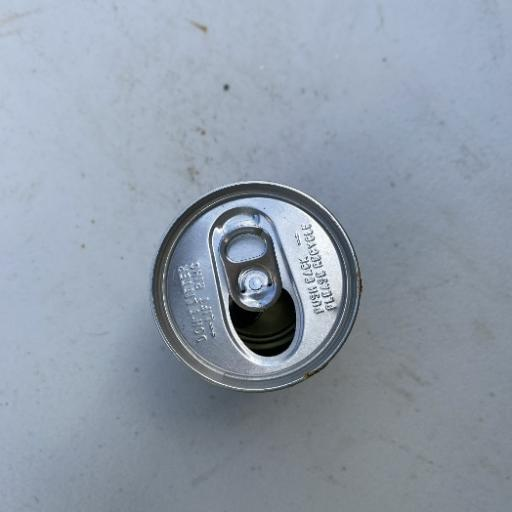Metal: (148, 177, 364, 394)
